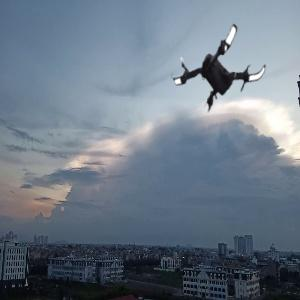drone: (165, 21, 269, 125)
